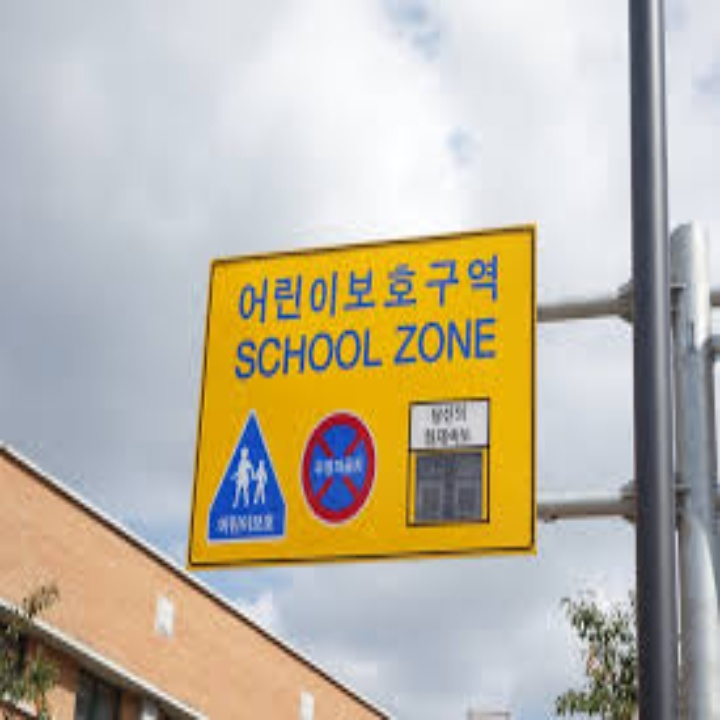child: (213, 437, 281, 510)
